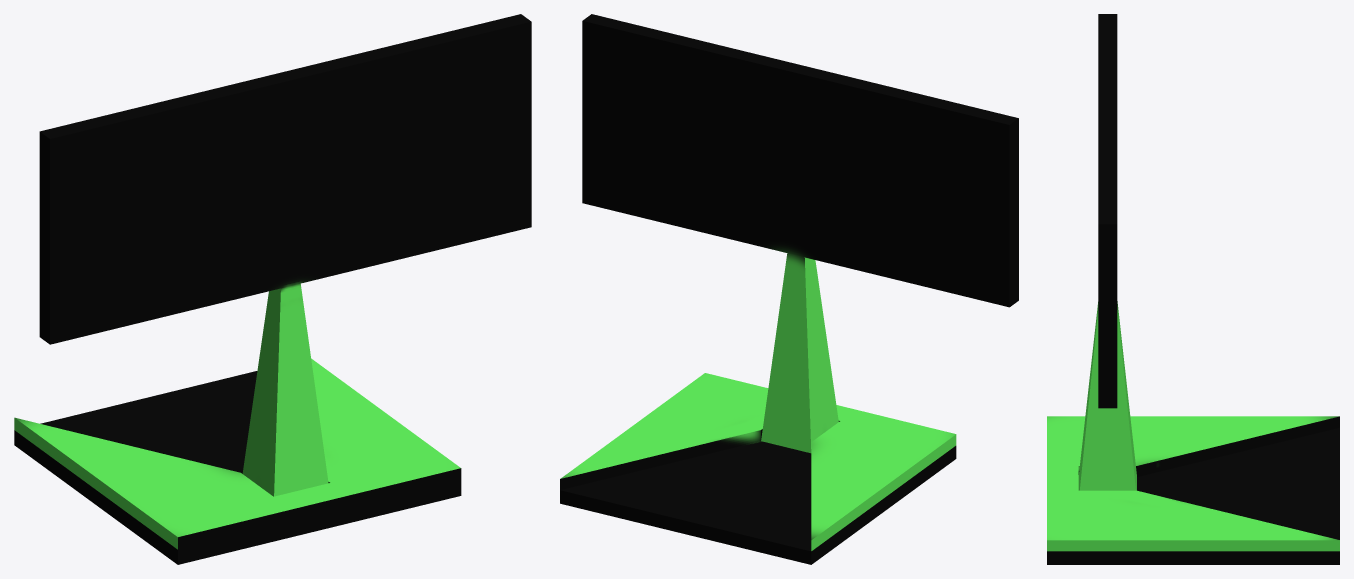
Rendered from monitor2.fbx.
3 views of the same model, side by side, from view 1: azimuth 30°, elevation 25°; view 2: azimuth 150°, elevation 25°; view 3: azimuth 270°, elevation 25° (orthographic). The views are drawn at different scales.
Visible parts, largest first — view 1: Cube; view 2: Cube; view 3: Cube.
Part boxes in pixels (bbox=[...]): Cube: bbox=[14, 14, 531, 564]; Cube: bbox=[560, 14, 1018, 564]; Cube: bbox=[1047, 14, 1339, 564].
Bounding box in the file's own units: 3.4 × 2.89 × 2.
